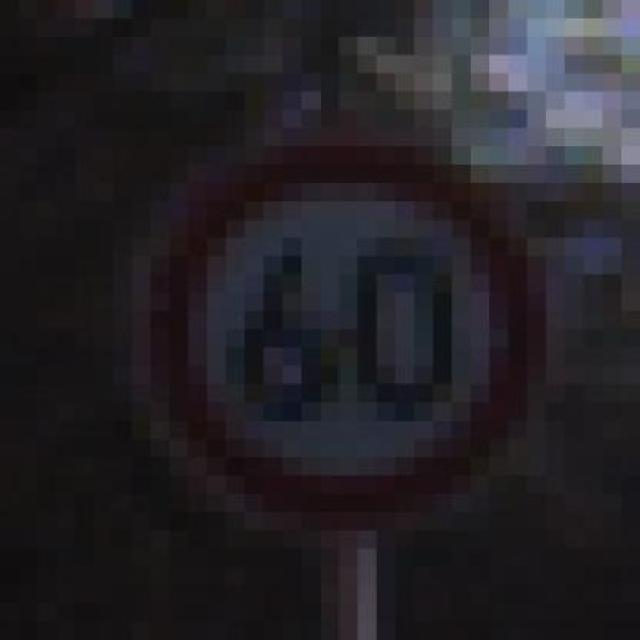forb_speed_over_60: (179, 167, 513, 491)
